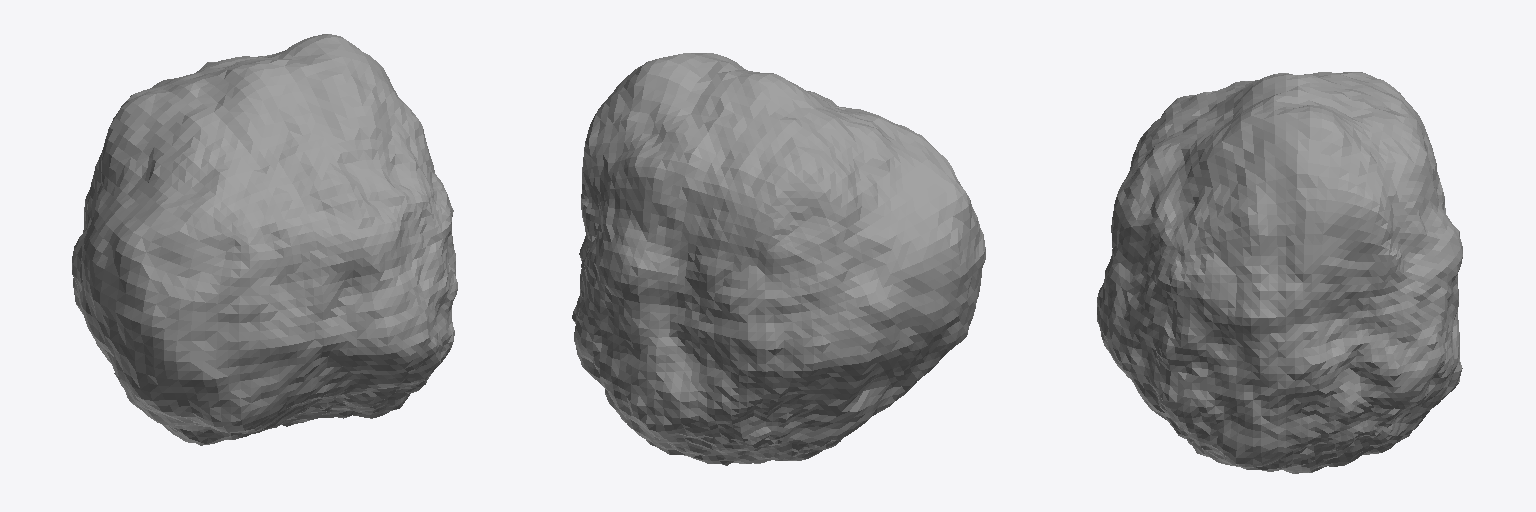
Rendered from asteroid_large_1.obj.
The picture shows the model from 3 angles: view 1: azimuth 30°, elevation 25°; view 2: azimuth 150°, elevation 25°; view 3: azimuth 270°, elevation 25°; orthographic projection.
Parts seen in each view (by area): view 1: Cube; view 2: Cube; view 3: Cube.
Part boxes in pixels (x1,y1,x2,y2): Cube: (72, 34, 457, 445); Cube: (572, 53, 985, 465); Cube: (1097, 72, 1462, 473).
Bounding box in the file's own units: 2.95 × 2.95 × 2.63.